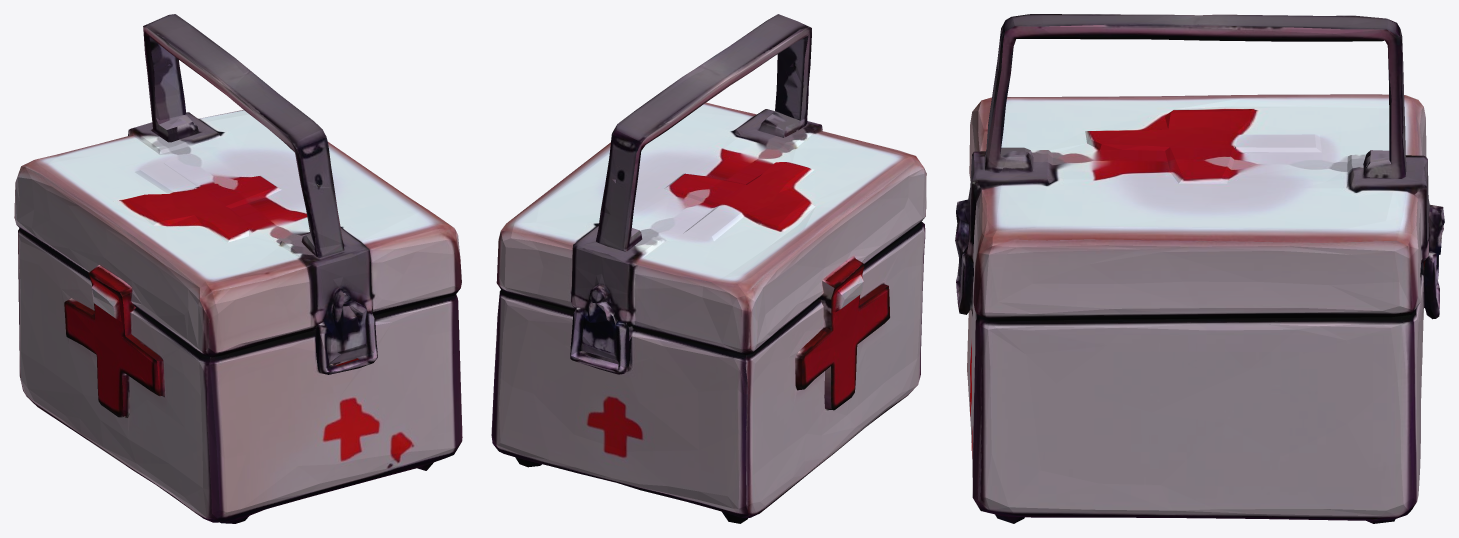
File: medkit.glb
3 renders of one model, left to right at view 1: azimuth 30°, elevation 25°; view 2: azimuth 150°, elevation 25°; view 3: azimuth 270°, elevation 25°, orthographic. The views are drawn at different scales.
Parts seen in each view (by area): view 1: tmp2gqoizsu.ply; view 2: tmp2gqoizsu.ply; view 3: tmp2gqoizsu.ply.
Boxes of the visible parts, <box> form: tmp2gqoizsu.ply: <box>14,14,462,523</box>; tmp2gqoizsu.ply: <box>491,14,926,523</box>; tmp2gqoizsu.ply: <box>955,14,1444,523</box>.
Bounding box in the file's own units: 1.54 × 1.99 × 1.96.
1 material, 1 textured.
